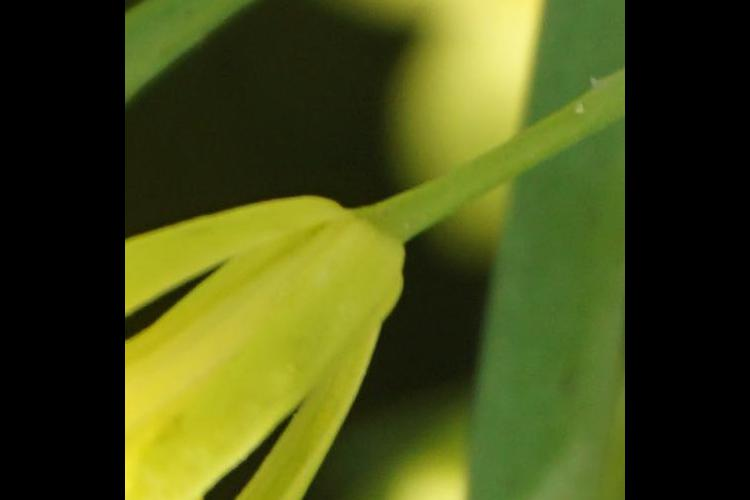yellow: (128, 189, 419, 500)
